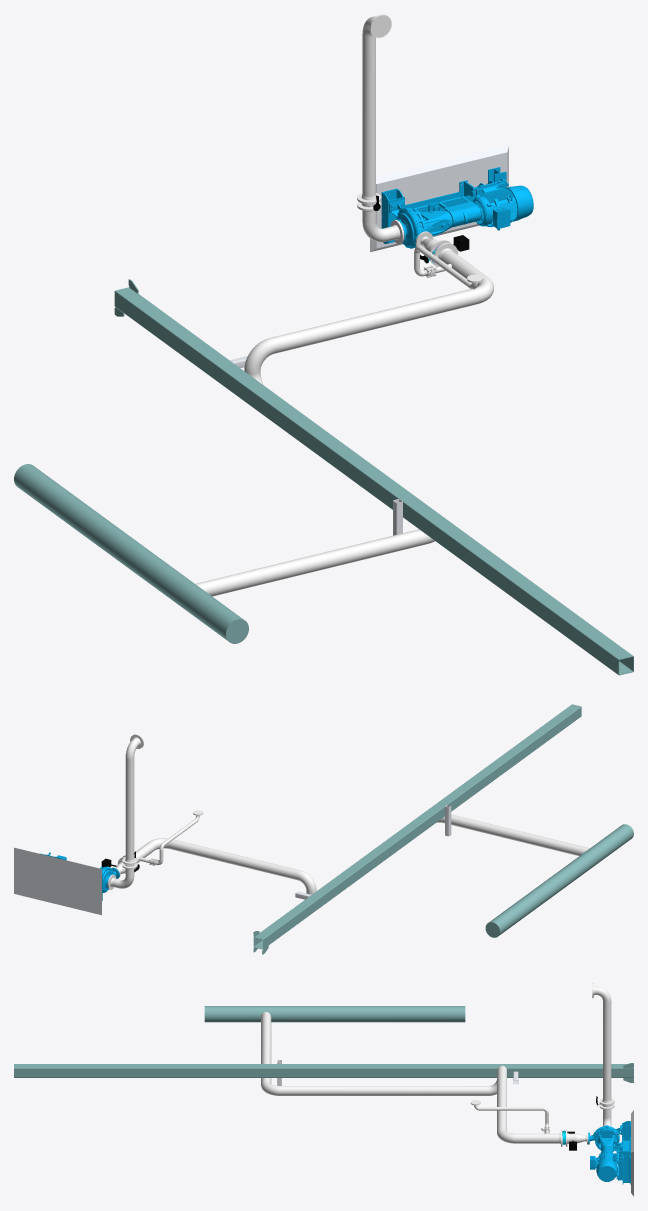
Rendered from New_Siebtechnik_New_PUMP3-v2.glb.
The picture shows the model from 3 angles, top to bottom: view 1: azimuth 30°, elevation 25°; view 2: azimuth 150°, elevation 25°; view 3: azimuth 270°, elevation 25°; orthographic projection. The views are drawn at different scales.
Parts seen in each view (by area): view 1: MESH_node_1, Insert_node, Insert, ACPPPIPE_node, ACPPPIPE_node_2, ACPPPIPE_node_1, 3D Solid, Composite Part, SURFACE; view 2: MESH_node_1, Insert, Insert_node, ACPPPIPE_node, ACPPPIPE_node_2, ACPPPIPE_node_1; view 3: MESH_node_1, Insert_node, ACPPPIPE, ACPPPIPE_node_1, Composite Part, 3D Solid, SURFACE, ACPPPIPE_node, ACPPPIPE_node_2, ACPPPIPE_node_8.
Boxes of the visible parts, bbox=[...] form: MESH_node_1: bbox=[114, 287, 633, 675]; Insert_node: bbox=[14, 464, 248, 643]; Insert: bbox=[370, 145, 508, 252]; ACPPPIPE_node: bbox=[195, 529, 428, 596]; ACPPPIPE_node_2: bbox=[271, 289, 478, 353]; ACPPPIPE_node_1: bbox=[362, 35, 375, 196]; 3D Solid: bbox=[473, 182, 533, 230]; Composite Part: bbox=[381, 167, 508, 243]; SURFACE: bbox=[390, 202, 452, 248]; MESH_node_1: bbox=[253, 704, 581, 949]; Insert: bbox=[14, 847, 101, 915]; Insert_node: bbox=[485, 824, 633, 937]; ACPPPIPE_node: bbox=[442, 814, 589, 855]; ACPPPIPE_node_2: bbox=[168, 839, 299, 880]; ACPPPIPE_node_1: bbox=[125, 758, 134, 860]; MESH_node_1: bbox=[14, 1064, 633, 1077]; Insert_node: bbox=[204, 1006, 465, 1022]; ACPPPIPE: bbox=[280, 1086, 488, 1095]; ACPPPIPE_node_1: bbox=[603, 1001, 611, 1100]; Composite Part: bbox=[616, 1121, 630, 1184]; 3D Solid: bbox=[590, 1151, 617, 1181]; SURFACE: bbox=[588, 1125, 620, 1151]; ACPPPIPE_node: bbox=[261, 1012, 271, 1084]; ACPPPIPE_node_2: bbox=[497, 1067, 506, 1131]; ACPPPIPE_node_8: bbox=[515, 1133, 558, 1143].
Size of the model in its own units: 7.49 by 3.26 by 10.35.
